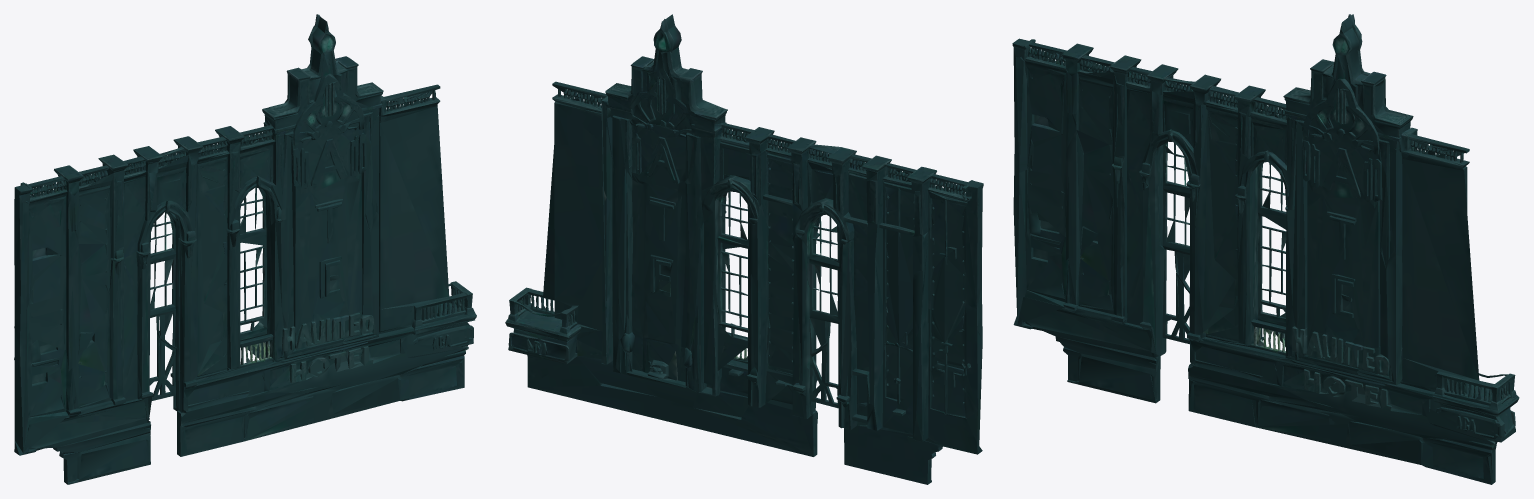
The model's file is mx_map_hollow_hotel.glb.
The picture shows the model from 3 angles, left to right: view 1: azimuth 30°, elevation 25°; view 2: azimuth 150°, elevation 25°; view 3: azimuth 330°, elevation 25°; orthographic projection. The views are drawn at different scales.
Bounding box in the file's own units: 1.9 × 1.6 × 0.1534.
1 material, 1 textured.
